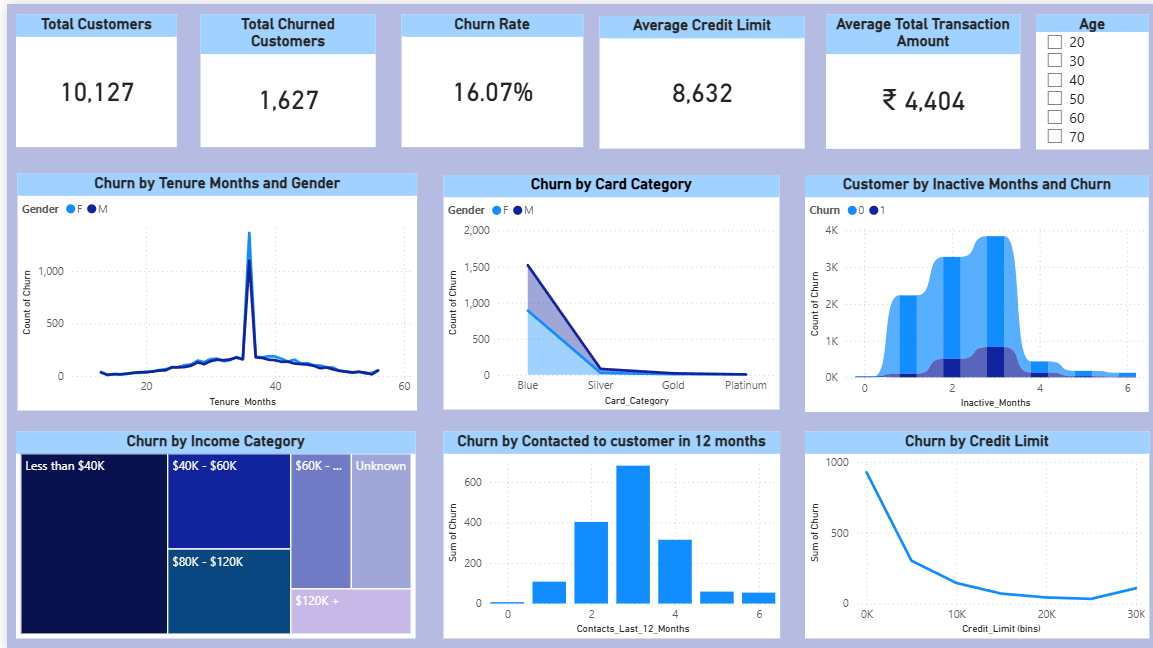

Layout of this report page (visuals, bound fields, positions):
{"tool":"powerbi","page":{"name":"Page 1","canvas":[1280,720],"ordinal":0},"visuals":[{"type":"card","title":"Total Churned Customers","fields":{"Values":["CountNonNull(customer_behavior customer.Churn)"]},"box":[215.8,12.3,194.7,147.4],"z":0},{"type":"card","title":"Total Customers","fields":{"Values":["CountNonNull(customer_behavior customer.Churn)"]},"box":[10.5,12.3,178.9,147.4],"z":1000},{"type":"card","title":"Average Credit Limit","fields":{"Values":["Avg(customer_behavior customer.Credit_Limit)"]},"box":[657.9,14,228.1,147.4],"z":2000},{"type":"card","title":"Average Total Transaction Amount","fields":{"Values":["Avg(customer_behavior customer.Total_Transaction_Amount)"]},"box":[910.5,12.3,215.8,149.1],"z":3000},{"type":"card","title":"Churn Rate","fields":{"Values":["customer_behavior customer.Churn_Percentage"]},"box":[438.6,12.3,201.8,147.4],"z":4000},{"type":"stackedAreaChart","title":"Churn by Card Category","fields":{"Category":["customer_behavior customer.Card_Category"],"Y":["CountNonNull(customer_behavior customer.Churn)"],"Series":["customer_behavior customer.Gender"]},"box":[485.7,189.3,373.2,260.7],"z":5000},{"type":"treemap","title":"Churn by Income Category","fields":{"Group":["customer_behavior customer.Income_Category"],"Values":["Sum(customer_behavior customer.Churn)"]},"box":[10.5,475.4,443.9,229.8],"z":6000},{"type":"lineChart","title":"Churn by Tenure Months and Gender","fields":{"Y":["CountNonNull(customer_behavior customer.Churn)"],"Category":["customer_behavior customer.Tenure_Months"],"Series":["customer_behavior customer.Gender"]},"box":[11.4,188.7,444,263.5],"z":7000},{"type":"ribbonChart","title":"Customer by Inactive Months and Churn","fields":{"Category":["customer_behavior customer.Inactive_Months"],"Y":["CountNonNull(customer_behavior customer.Churn)"],"Series":["customer_behavior customer.Churn"]},"box":[886.5,190.3,382.2,263.5],"z":8000},{"type":"slicer","title":"Age","fields":{"Values":["customer_behavior customer.Age (bins)"]},"box":[1143.3,11.7,125,150],"z":9000},{"type":"columnChart","title":"Churn by Contacted to customer in 12 months","fields":{"Y":["Sum(customer_behavior customer.Churn)"],"Category":["customer_behavior customer.Contacts_Last_12_Months"]},"box":[484.2,475.4,373.7,229.8],"z":10000},{"type":"lineChart","title":"Churn by Credit Limit","fields":{"Category":["customer_behavior customer.Credit_Limit (bins)"],"Y":["Sum(customer_behavior customer.Churn)"]},"box":[886,475.4,382.5,229.8],"z":10001}]}

Visuals, with their boxes in screenshot pixels (x1, y1, x2, y2), scaled from the page's 1280x720 canvas onto the 1153x648 screenshot:
"Total Churned Customers" card: rect(194, 11, 370, 144)
"Total Customers" card: rect(9, 11, 171, 144)
"Average Credit Limit" card: rect(593, 13, 798, 145)
"Average Total Transaction Amount" card: rect(820, 11, 1015, 145)
"Churn Rate" card: rect(395, 11, 577, 144)
"Churn by Card Category" stackedAreaChart: rect(438, 170, 774, 405)
"Churn by Income Category" treemap: rect(9, 428, 409, 635)
"Churn by Tenure Months and Gender" lineChart: rect(10, 170, 410, 407)
"Customer by Inactive Months and Churn" ribbonChart: rect(799, 171, 1143, 408)
"Age" slicer: rect(1030, 11, 1142, 146)
"Churn by Contacted to customer in 12 months" columnChart: rect(436, 428, 773, 635)
"Churn by Credit Limit" lineChart: rect(798, 428, 1143, 635)
